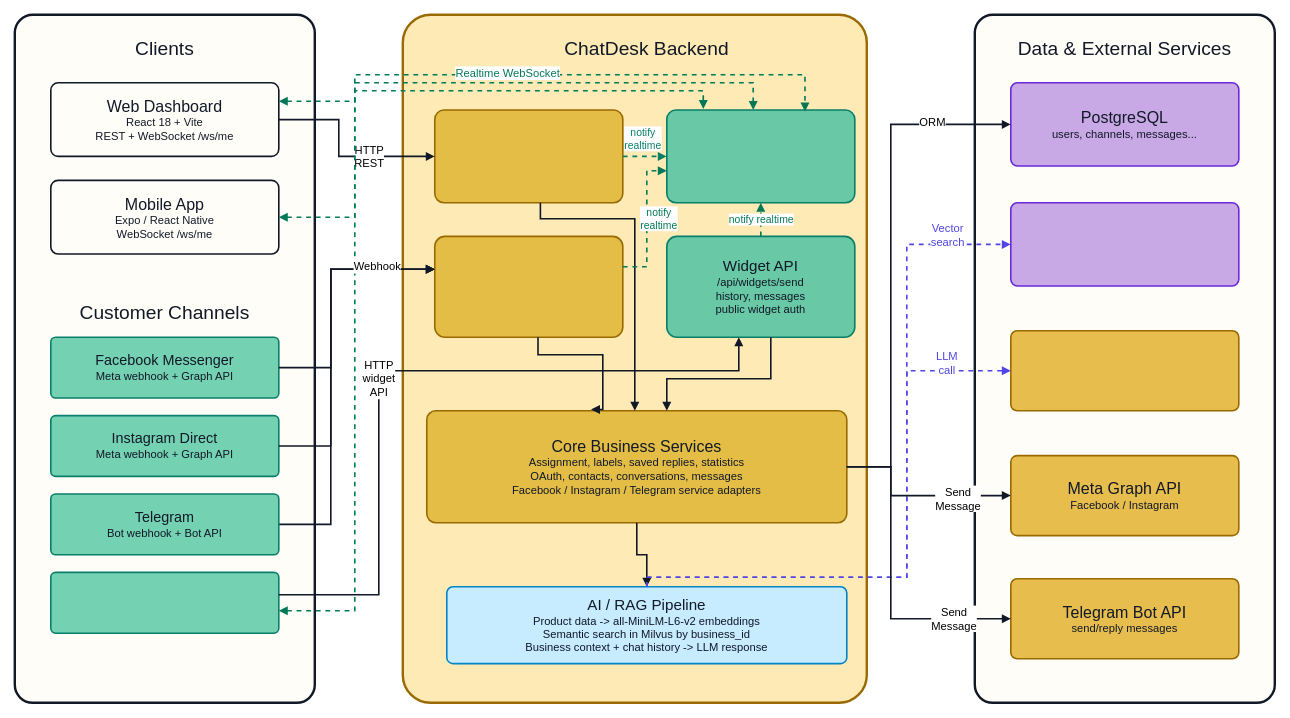
The diagram is 1290 pixels wide and 718 high, and some of its shapes have lost their labels. The shapes that lost their labels are listed below. From the top down, each one's centre as x and y in pixels, then its label:
At [528,156]: "REST API /api/auth, users, channels conversations, messages products, admin".
At [760,156]: "WebSocket Manager /ws/me /ws/widget/{id} broadcast by business_id".
At [1124,244]: "Milvus / Zilliz product embeddings 384-dim cosine search".
At [528,286]: "Webhook Handlers /api/webhooks/meta /facebook, /instagram /telegram/{bot_id}".
At [1124,370]: "LLM Provider Groq or OpenAI".
At [164,602]: "Website Widget Embedded customer chat".
